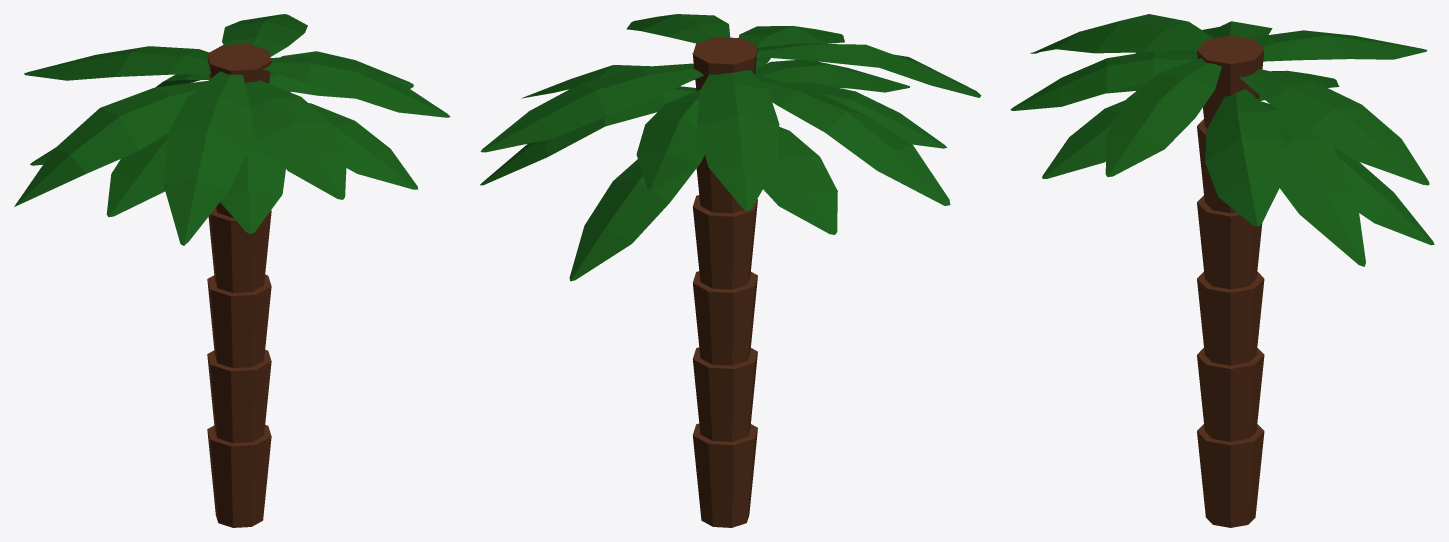
File: Palmera4.fbx
3 views of the same model, side by side, from view 1: azimuth 30°, elevation 25°; view 2: azimuth 150°, elevation 25°; view 3: azimuth 270°, elevation 25° (orthographic).
Visible parts, largest first — view 1: Palmera4G; view 2: Palmera4G; view 3: Palmera4G.
Boxes of the visible parts, bbox=[...] form: Palmera4G: bbox=[14, 14, 450, 527]; Palmera4G: bbox=[480, 14, 981, 527]; Palmera4G: bbox=[1010, 14, 1434, 527].
Bounding box in the file's own units: 607 × 649 × 534.
